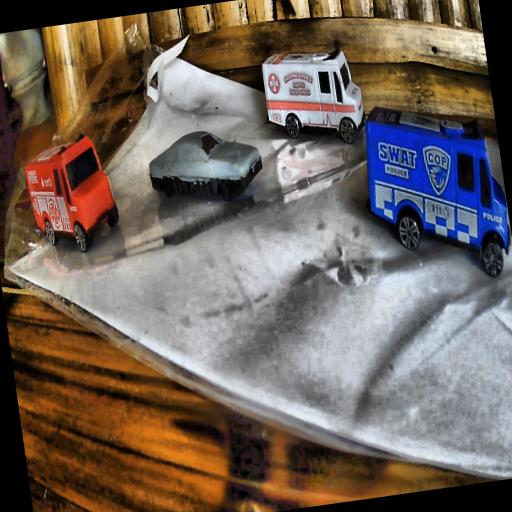ambulance: (259, 41, 368, 155)
fire_truck: (20, 130, 122, 260)
normal_car: (143, 120, 268, 214)
police car: (349, 88, 512, 294)
